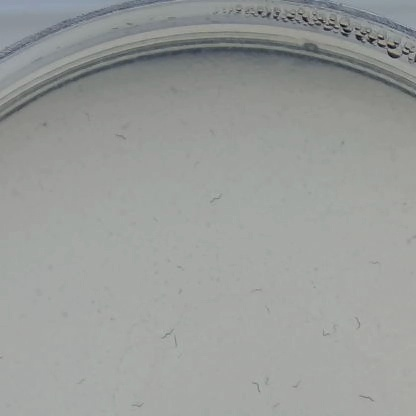worm: (154, 327, 181, 349), (315, 322, 343, 343), (65, 367, 91, 388), (107, 123, 130, 145), (346, 309, 366, 332), (353, 391, 379, 405), (128, 396, 147, 411), (207, 194, 228, 207), (244, 284, 266, 296), (286, 378, 304, 392), (367, 257, 387, 269), (243, 381, 263, 393), (259, 374, 274, 387), (263, 305, 277, 317)
